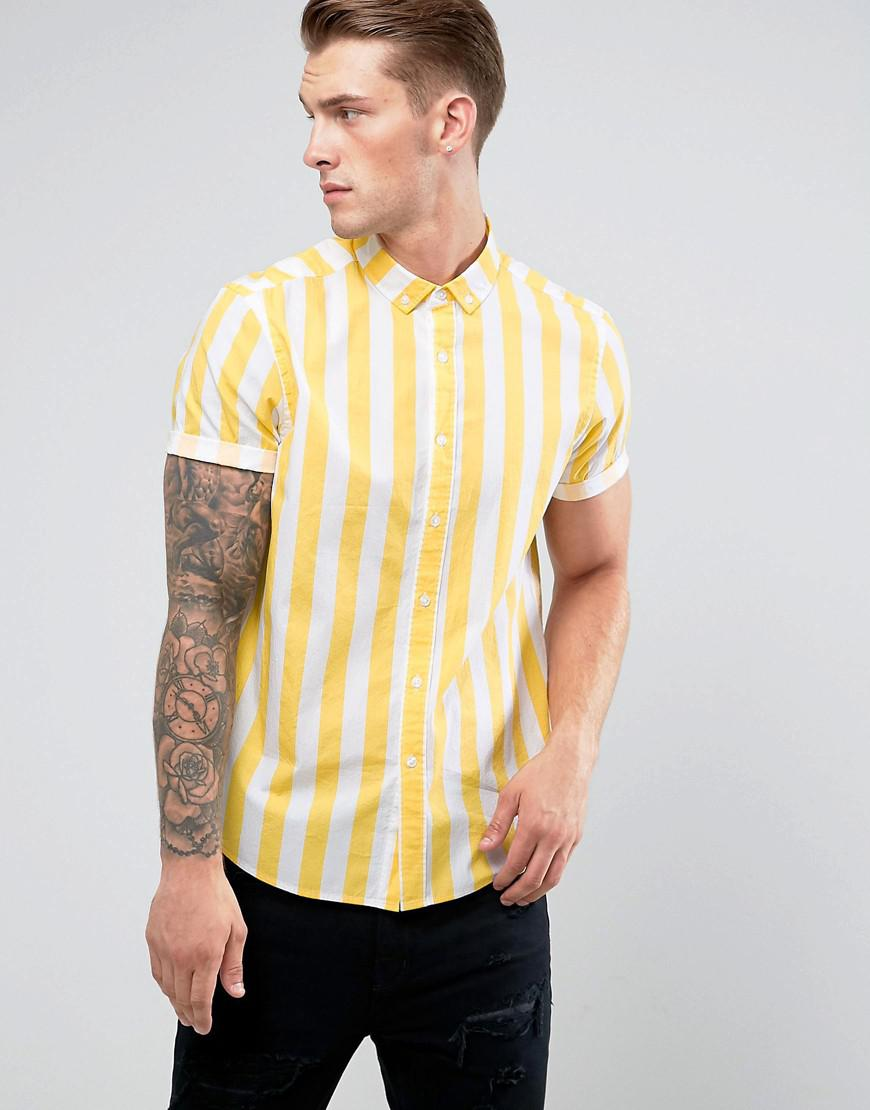teeshirt: (173, 217, 618, 927)
